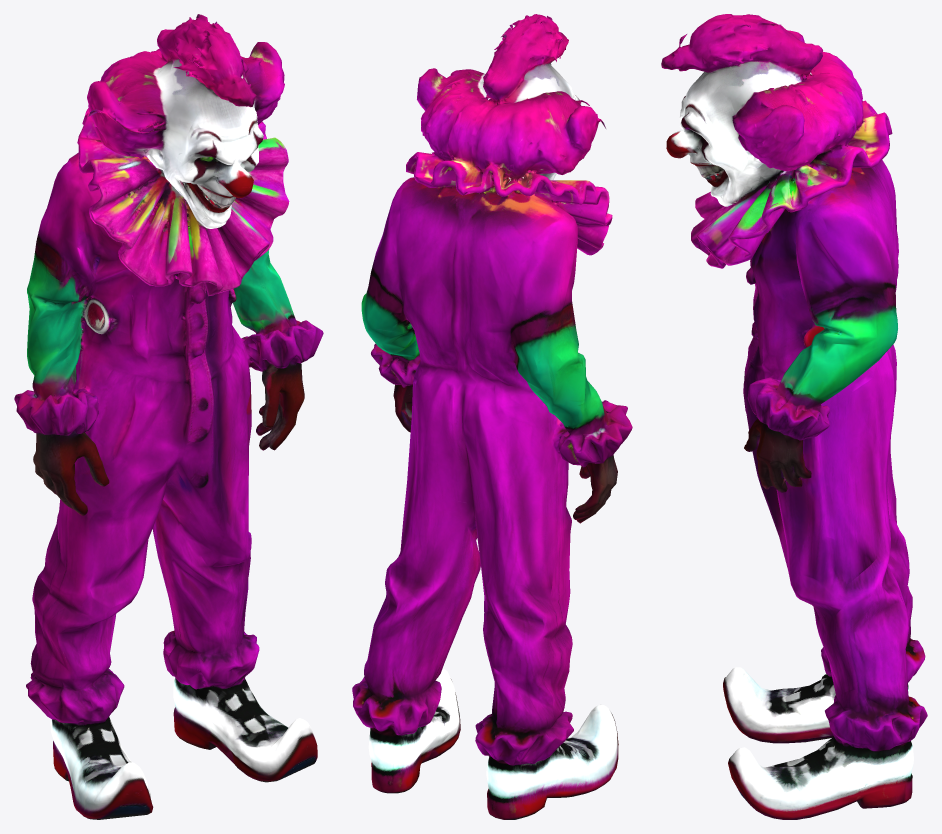
File: vorath_clown_mutant_1.glb
3 views of the same model, side by side, from view 1: azimuth 30°, elevation 25°; view 2: azimuth 150°, elevation 25°; view 3: azimuth 270°, elevation 25° (orthographic). The views are drawn at different scales.
Bounding box in the file's own units: 0.7113 × 1.89 × 0.6086.
Materials: 1 (1 with a texture image).
